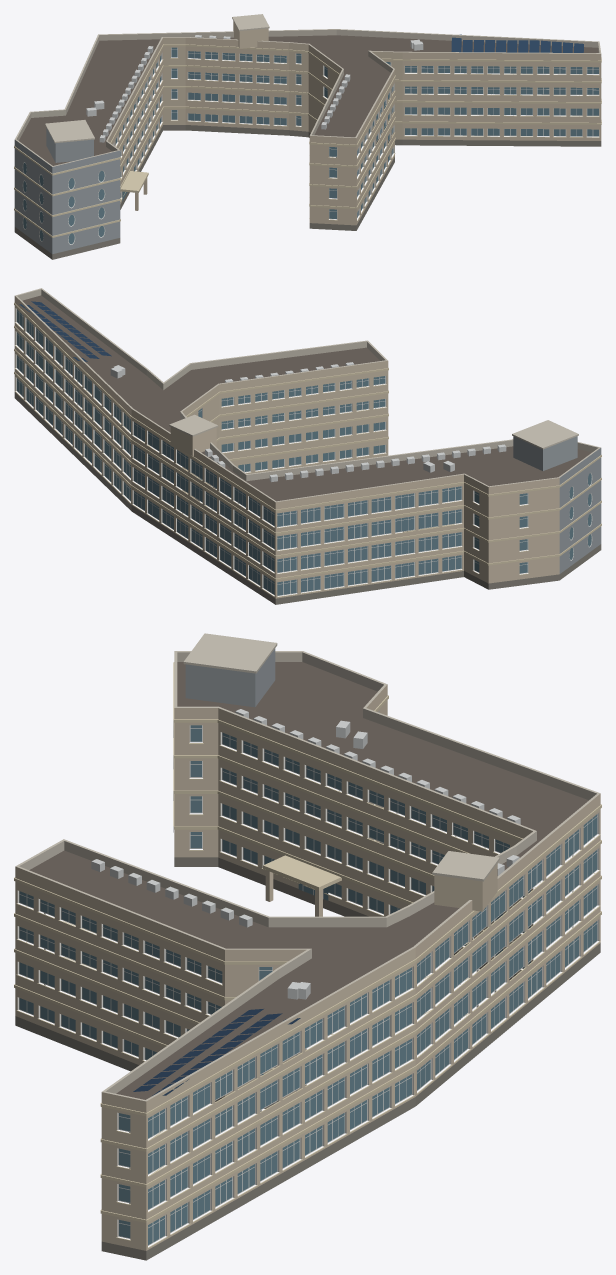
3 renders of one model, top to bottom at view 1: azimuth 30°, elevation 25°; view 2: azimuth 150°, elevation 25°; view 3: azimuth 270°, elevation 25°, orthographic. The views are drawn at different scales.
Visible parts, largest first — view 1: wing3__brick, wing3__roof, wing3__trim-concrete, wing3__glass, wing3__wall-plaster, wing3__parapet-concrete, wing3__frame, wing3__base-stone, wing3__solar-panel, wing3__equipment; view 2: wing3__brick, wing3__glass, wing3__roof, wing3__trim-concrete, wing3__frame, wing3__parapet-concrete, wing3__wall-plaster, wing3__base-stone, wing3__equipment, wing3__solar-panel; view 3: wing3__brick, wing3__glass, wing3__roof, wing3__trim-concrete, wing3__frame, wing3__parapet-concrete, wing3__base-stone, wing3__equipment, wing3__wall-plaster, wing3__solar-panel.
Boxes of the visible parts, x1=… form: wing3__brick: x1=108, y1=21, x2=601, y2=225; wing3__roof: x1=19, y1=35, x2=598, y2=165; wing3__trim-concrete: x1=14, y1=44, x2=601, y2=237; wing3__glass: x1=23, y1=47, x2=598, y2=244; wing3__wall-plaster: x1=14, y1=128, x2=120, y2=254; wing3__parapet-concrete: x1=15, y1=14, x2=601, y2=166; wing3__frame: x1=22, y1=47, x2=599, y2=244; wing3__base-stone: x1=14, y1=125, x2=601, y2=259; wing3__solar-panel: x1=451, y1=34, x2=583, y2=52; wing3__equipment: x1=86, y1=35, x2=423, y2=142; wing3__brick: x1=14, y1=296, x2=559, y2=598; wing3__glass: x1=17, y1=309, x2=591, y2=595; wing3__roof: x1=22, y1=295, x2=591, y2=501; wing3__trim-concrete: x1=14, y1=302, x2=601, y2=597; wing3__frame: x1=15, y1=308, x2=592, y2=596; wing3__parapet-concrete: x1=15, y1=288, x2=600, y2=502; wing3__wall-plaster: x1=513, y1=436, x2=601, y2=573; wing3__base-stone: x1=14, y1=392, x2=601, y2=604; wing3__equipment: x1=110, y1=362, x2=506, y2=482; wing3__solar-panel: x1=19, y1=301, x2=111, y2=361; wing3__brick: x1=15, y1=684, x2=600, y2=1250; wing3__glass: x1=19, y1=725, x2=597, y2=1245; wing3__roof: x1=29, y1=662, x2=588, y2=1099; wing3__trim-concrete: x1=14, y1=662, x2=601, y2=1248; wing3__frame: x1=17, y1=711, x2=599, y2=1245; wing3__parapet-concrete: x1=15, y1=633, x2=600, y2=1101; wing3__base-stone: x1=15, y1=842, x2=600, y2=1260; wing3__equipment: x1=91, y1=709, x2=520, y2=999; wing3__wall-plaster: x1=185, y1=648, x2=275, y2=707; wing3__solar-panel: x1=133, y1=1009, x2=300, y2=1096.
Size of the model in its own units: 95.22 by 18.32 by 52.41.
